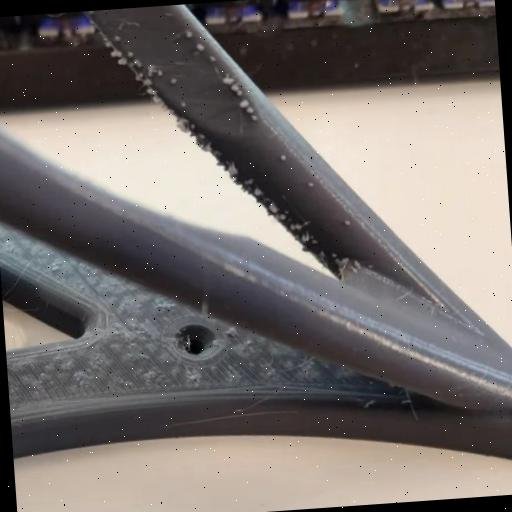blobs: (302, 173, 318, 193), (192, 42, 210, 56), (222, 72, 237, 88), (112, 56, 132, 68), (249, 184, 266, 198), (288, 218, 302, 234), (230, 85, 247, 98), (266, 200, 280, 215), (226, 164, 241, 178), (342, 215, 356, 229), (144, 86, 160, 98), (182, 28, 194, 42), (236, 97, 250, 109), (248, 112, 260, 126), (275, 151, 289, 163), (166, 74, 178, 88), (278, 210, 288, 224), (301, 233, 311, 247), (123, 48, 135, 58), (176, 100, 190, 107), (208, 52, 218, 61), (244, 108, 255, 114)
